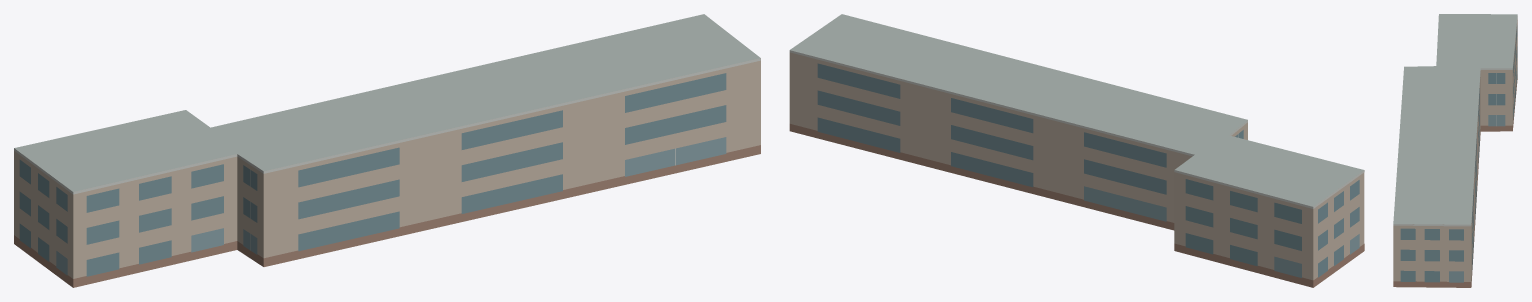
Rendered from survey-upis-32576306.glb.
3 views of the same model, side by side, from view 1: azimuth 30°, elevation 25°; view 2: azimuth 150°, elevation 25°; view 3: azimuth 270°, elevation 25° (orthographic). The views are drawn at different scales.
Parts seen in each view (by area): view 1: survey-upis-32576306.tmp; view 2: survey-upis-32576306.tmp; view 3: survey-upis-32576306.tmp.
Boxes of the visible parts, box(x1,y1,x2,y2) form: survey-upis-32576306.tmp: box(14, 14, 760, 287); survey-upis-32576306.tmp: box(789, 14, 1364, 287); survey-upis-32576306.tmp: box(1393, 14, 1517, 287).
Bounding box in the file's own units: 65.47 × 9.15 × 16.34.
